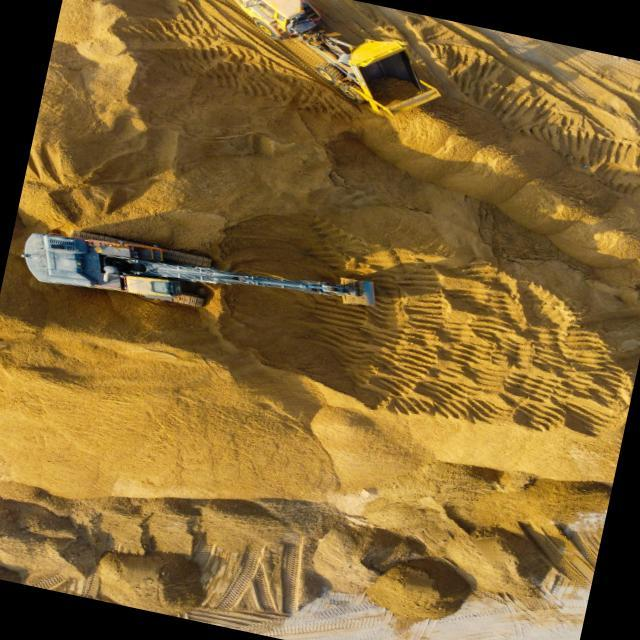excavator: (20, 228, 373, 306)
